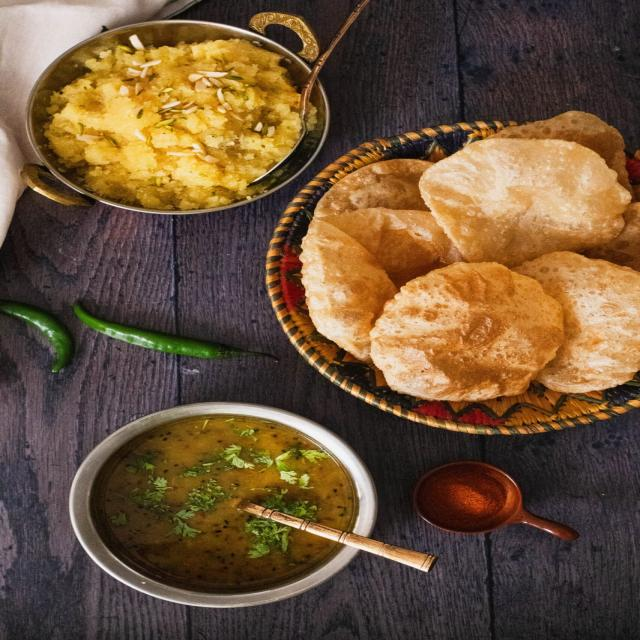poori: (370, 260, 568, 413), (421, 130, 636, 266), (301, 202, 467, 348), (519, 240, 640, 410)
